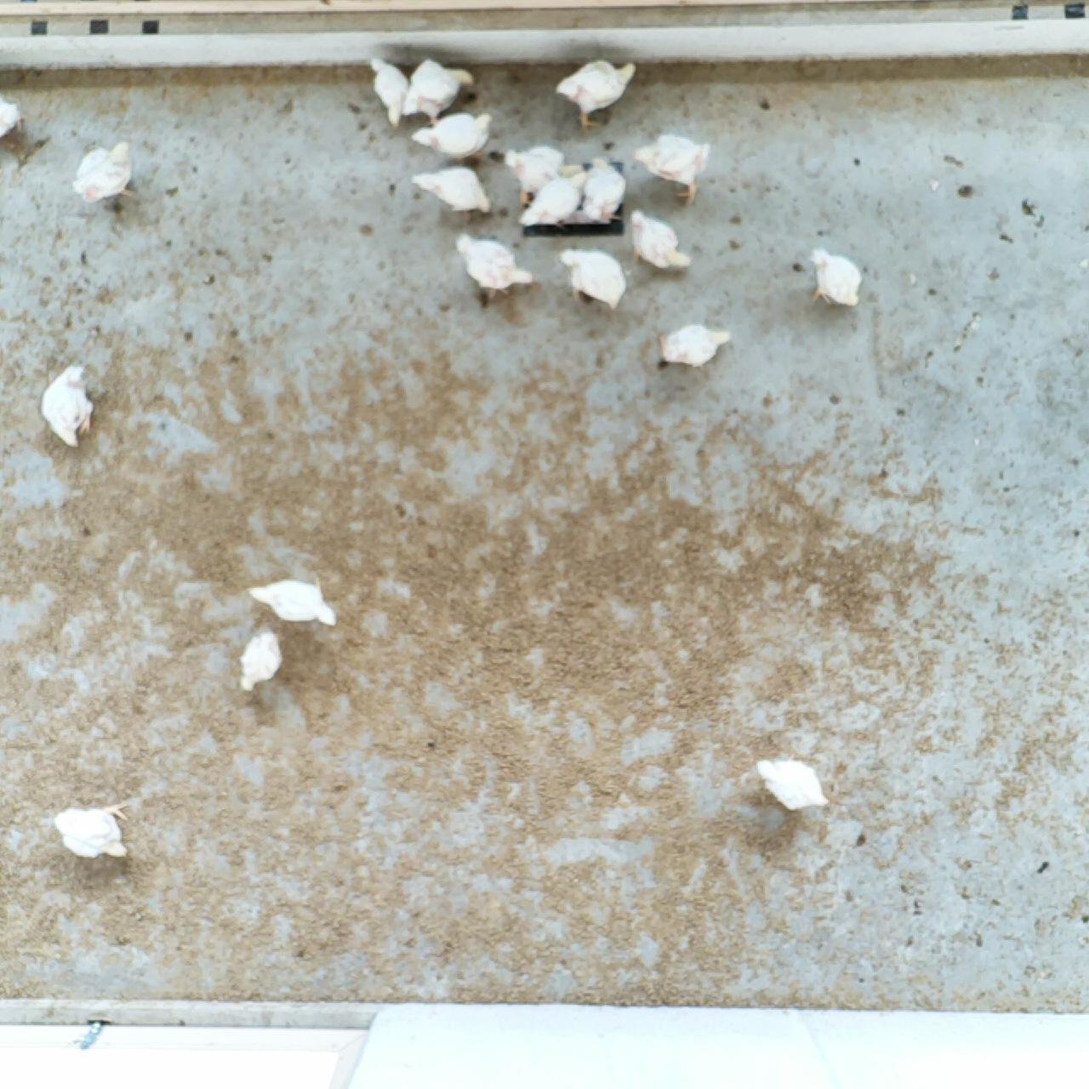chicken: (634, 134, 710, 208), (558, 60, 635, 130), (41, 362, 95, 449), (249, 577, 338, 629), (72, 141, 142, 206), (459, 237, 532, 298), (517, 167, 587, 225), (410, 60, 474, 122), (561, 247, 626, 308), (53, 807, 126, 861), (413, 165, 492, 213), (499, 148, 566, 204), (756, 761, 830, 811), (630, 212, 687, 274), (414, 117, 493, 161), (656, 326, 731, 369), (812, 250, 863, 310), (583, 155, 626, 223), (369, 60, 408, 128), (242, 634, 281, 695), (1, 94, 21, 145)
